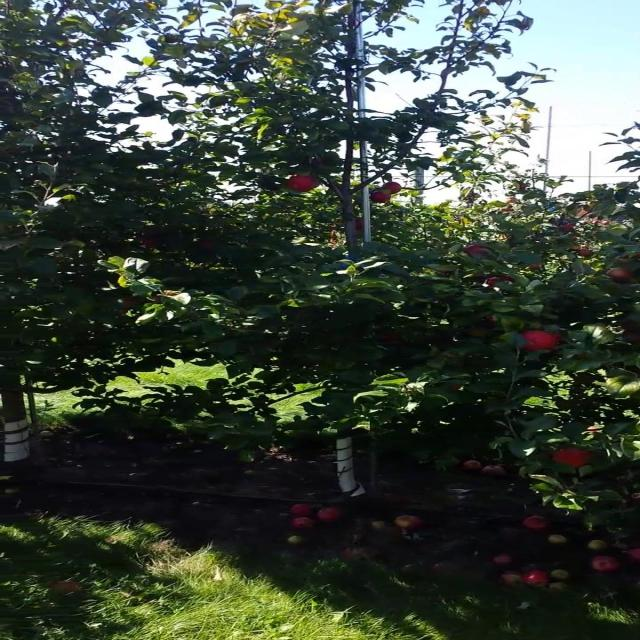apple: (551, 448, 591, 468), (522, 330, 560, 351), (287, 175, 318, 192), (462, 244, 491, 257), (622, 325, 640, 344), (607, 268, 633, 281), (484, 275, 513, 286), (369, 190, 391, 202), (380, 331, 402, 343), (382, 181, 402, 194), (140, 235, 160, 248), (196, 238, 216, 251), (573, 245, 593, 257), (122, 298, 142, 309), (467, 328, 489, 337), (526, 262, 542, 270), (449, 384, 463, 391), (356, 219, 364, 231)
